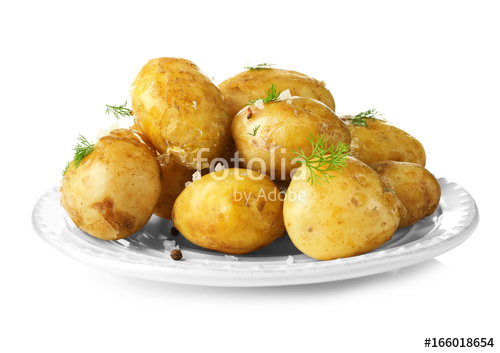boiled potatoes: (44, 47, 460, 261)
